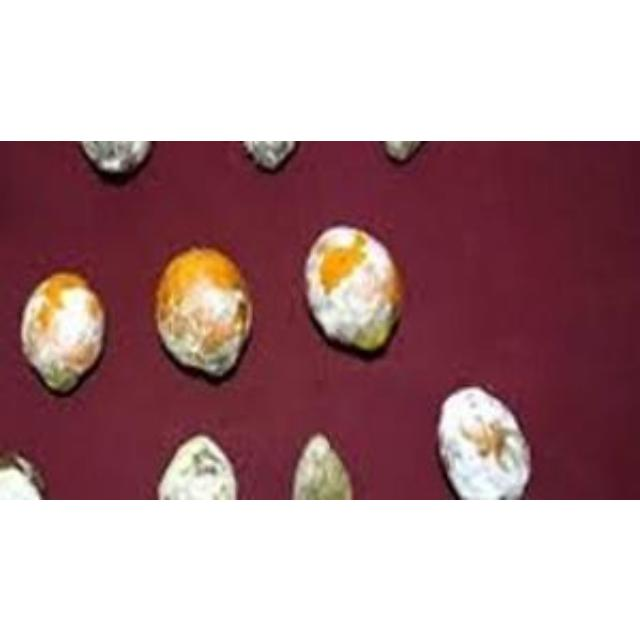damaged: (153, 242, 254, 376), (302, 223, 406, 351), (18, 266, 108, 394), (436, 384, 532, 498), (158, 434, 238, 498), (291, 431, 353, 497), (78, 140, 152, 176), (0, 450, 46, 498), (242, 140, 296, 170)
